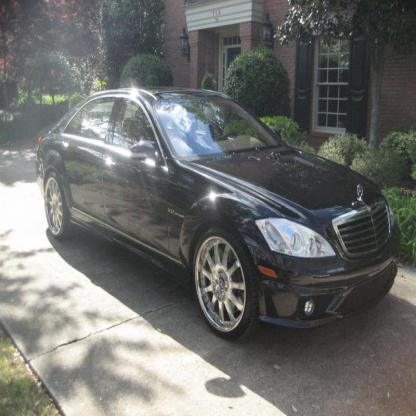Vehicle: (35, 87, 402, 341)
